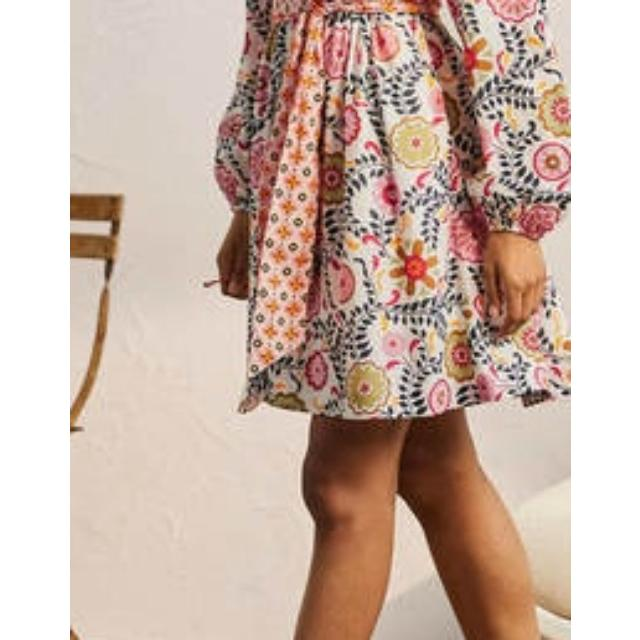cotton: (228, 0, 570, 406)
